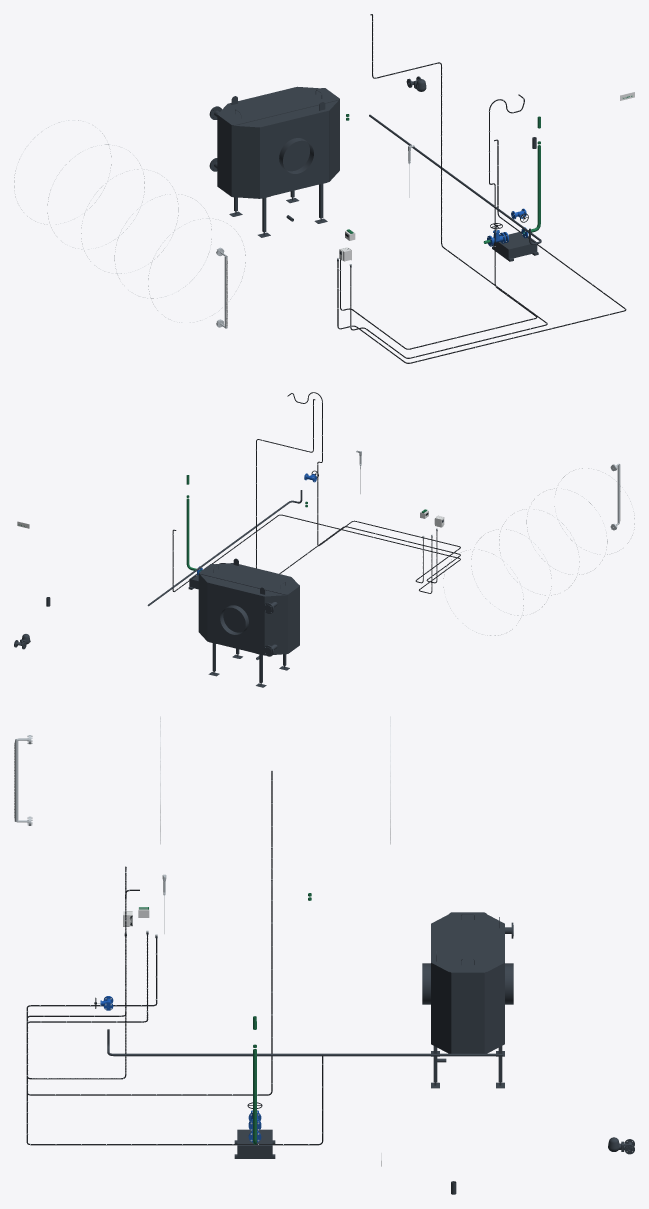
The model's file is s4000-2-COLnJjP0.glb.
3 renders of one model, top to bottom at view 1: azimuth 30°, elevation 25°; view 2: azimuth 150°, elevation 25°; view 3: azimuth 270°, elevation 25°, orthographic. The views are drawn at different scales.
Visible parts, largest first — view 1: EQS2-3000 CAD 0, EQS2-3000 CAD 3, EQS2-3000 CAD 1, gpz_drive_cable / black, wiring_pump_2 / black, wiring_pressure_switch_3 / black, pump_branch_1 / dark, deaerator_details / steel, tds_common / dark; view 2: EQS2-3000 CAD 0, EQS2-3000 CAD 3, EQS2-3000 CAD 2, wiring_pump_2 / black, gpz_drive_cable / black, wiring_pressure_switch_3 / black, deaerator_details / steel, tds_common / dark; view 3: EQS2-3000 CAD 3, tds_common / dark, gpz_drive_cable / black, EQS2-3000 CAD 0, wiring_pump_2 / black, wiring_pressure_switch_3 / black, pump_branch_1 / dark, deaerator_details / steel.
Part boxes in pixels (left/top/right/bottom): EQS2-3000 CAD 0: left=229, top=110, right=329, bottom=237; EQS2-3000 CAD 3: left=217, top=86, right=339, bottom=196; EQS2-3000 CAD 1: left=231, top=125, right=259, bottom=198; gpz_drive_cable / black: left=350, top=14, right=547, bottom=358; wiring_pump_2 / black: left=337, top=139, right=626, bottom=363; wiring_pressure_switch_3 / black: left=340, top=94, right=537, bottom=349; pump_branch_1 / dark: left=492, top=231, right=538, bottom=261; deaerator_details / steel: left=14, top=120, right=245, bottom=328; tds_common / dark: left=369, top=114, right=541, bottom=244; EQS2-3000 CAD 0: left=207, top=582, right=289, bottom=687; EQS2-3000 CAD 3: left=198, top=558, right=299, bottom=653; EQS2-3000 CAD 2: left=263, top=595, right=287, bottom=656; wiring_pump_2 / black: left=172, top=514, right=460, bottom=593; gpz_drive_cable / black: left=256, top=399, right=460, bottom=583; wiring_pressure_switch_3 / black: left=287, top=392, right=460, bottom=583; deaerator_details / steel: left=443, top=463, right=634, bottom=635; tds_common / dark: left=147, top=490, right=302, bottom=606; EQS2-3000 CAD 3: left=431, top=912, right=504, bottom=1053; tds_common / dark: left=107, top=1029, right=503, bottom=1056; gpz_drive_cable / black: left=26, top=771, right=272, bottom=1095; EQS2-3000 CAD 0: left=422, top=963, right=513, bottom=1088; wiring_pump_2 / black: left=26, top=934, right=323, bottom=1145; wiring_pressure_switch_3 / black: left=26, top=866, right=157, bottom=1079; pump_branch_1 / dark: left=234, top=1129, right=275, bottom=1158; deaerator_details / steel: left=14, top=716, right=390, bottom=844.
Bounding box in the file's own units: 9.02 × 3.71 × 6.88.
